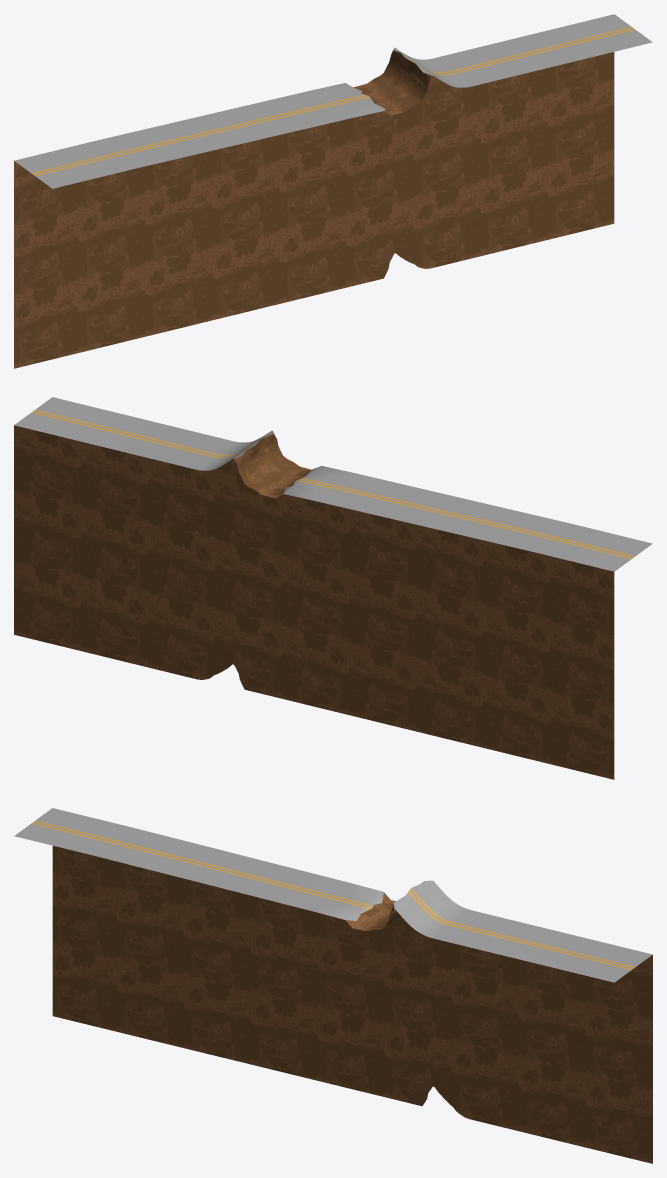
Rendered from Terrain_08_jump_point_2.FBX.
The picture shows the model from 3 angles, top to bottom: view 1: azimuth 30°, elevation 25°; view 2: azimuth 150°, elevation 25°; view 3: azimuth 330°, elevation 25°; orthographic projection.
Parts seen in each view (by area): view 1: Terrain_01_ground, Terrain_01; view 2: Terrain_01_ground, Terrain_01; view 3: Terrain_01_ground, Terrain_01.
Boxes of the visible parts, x1,y1,x2,y2 form: Terrain_01_ground: (14, 52, 614, 368); Terrain_01: (14, 14, 652, 188); Terrain_01_ground: (14, 425, 614, 779); Terrain_01: (14, 397, 652, 571); Terrain_01_ground: (52, 846, 652, 1163); Terrain_01: (14, 808, 652, 982).
Bounding box in the file's own units: 360 × 133 × 40.
